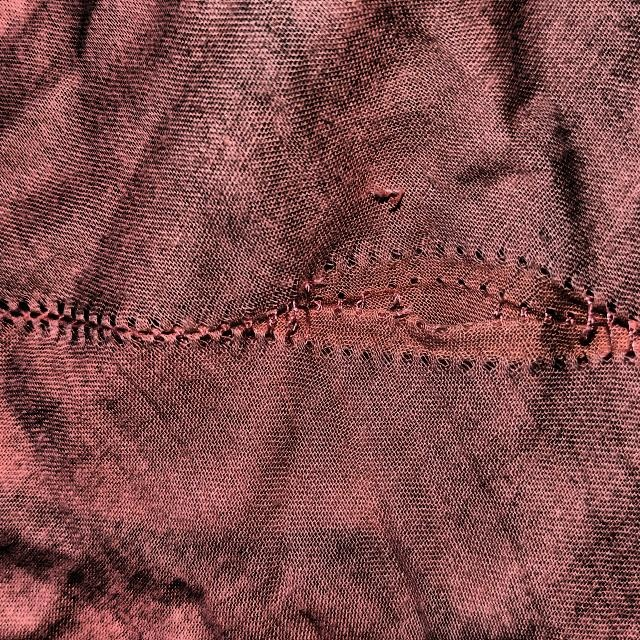seam: (199, 153, 640, 461)
